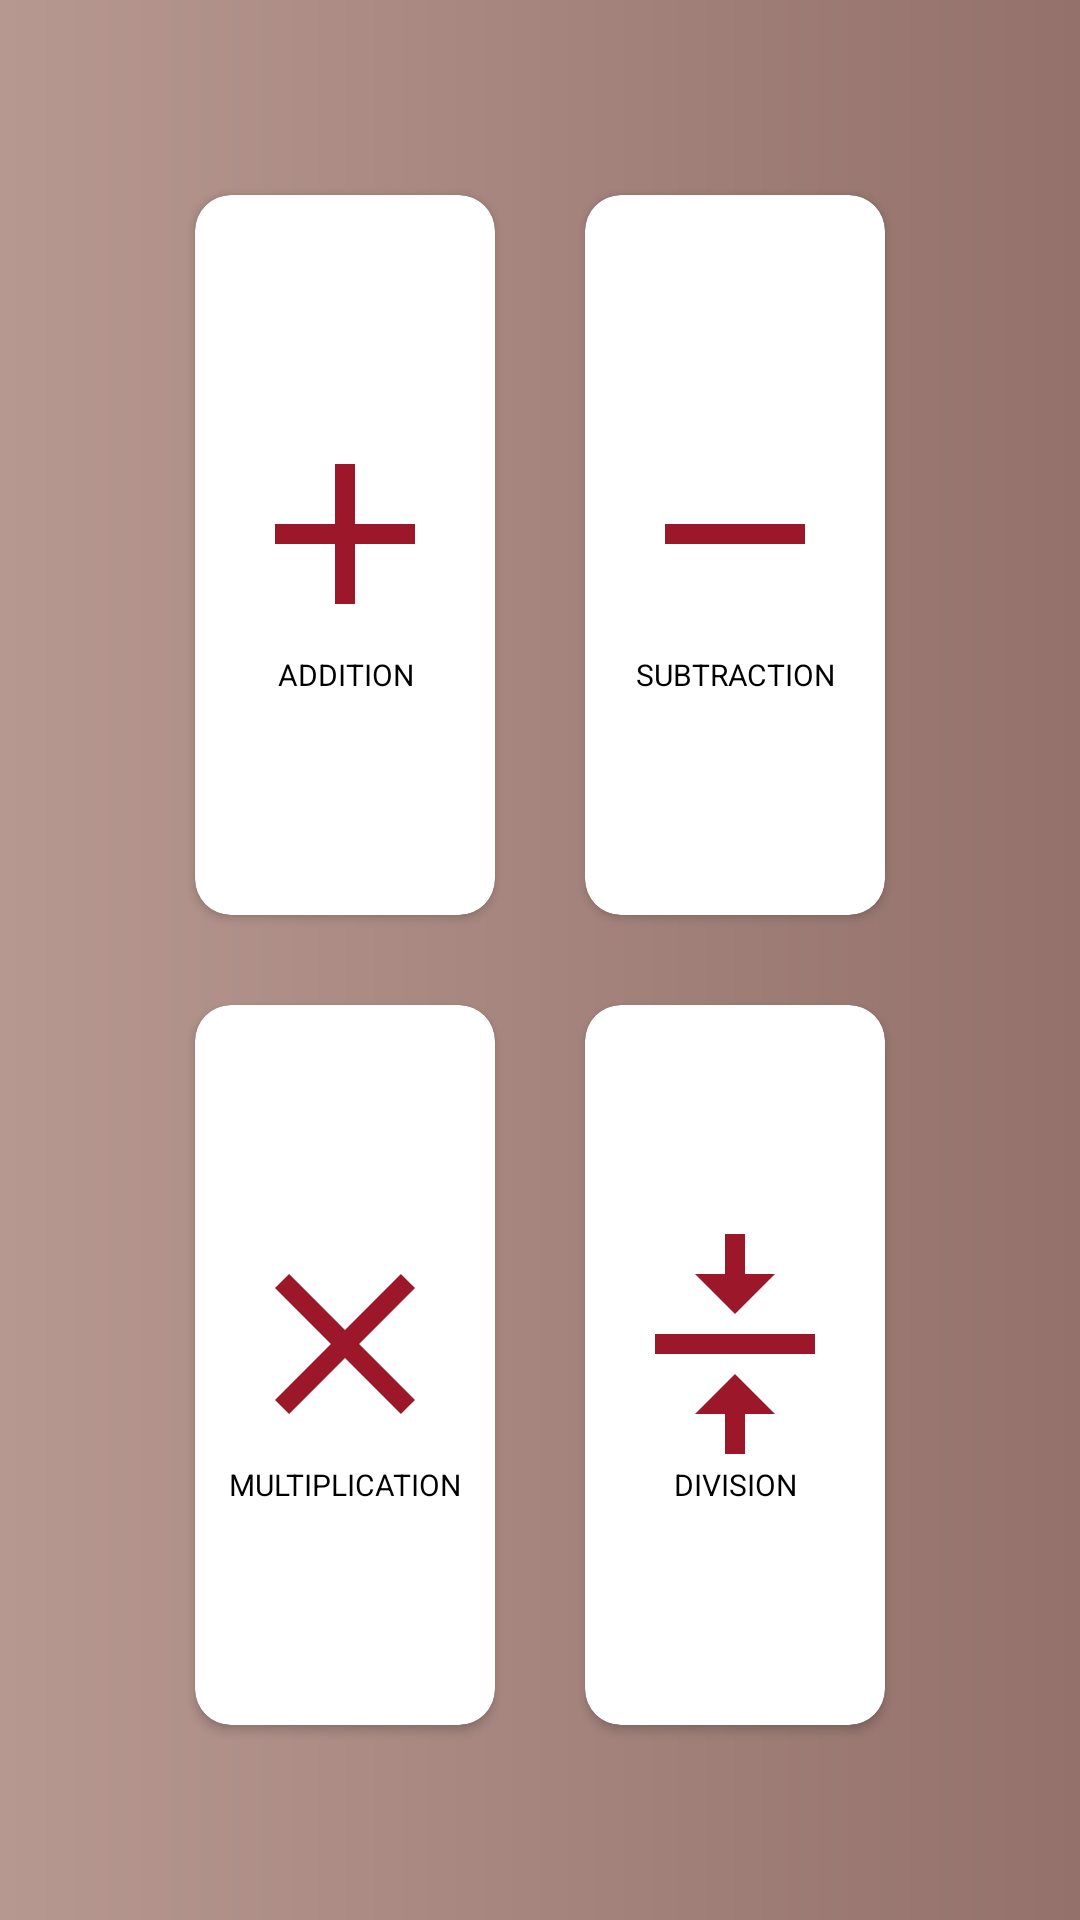

Screen size 1080x1920. Icon name, then its center in pixels as point (x, y):
multiply: point (345, 1344)
